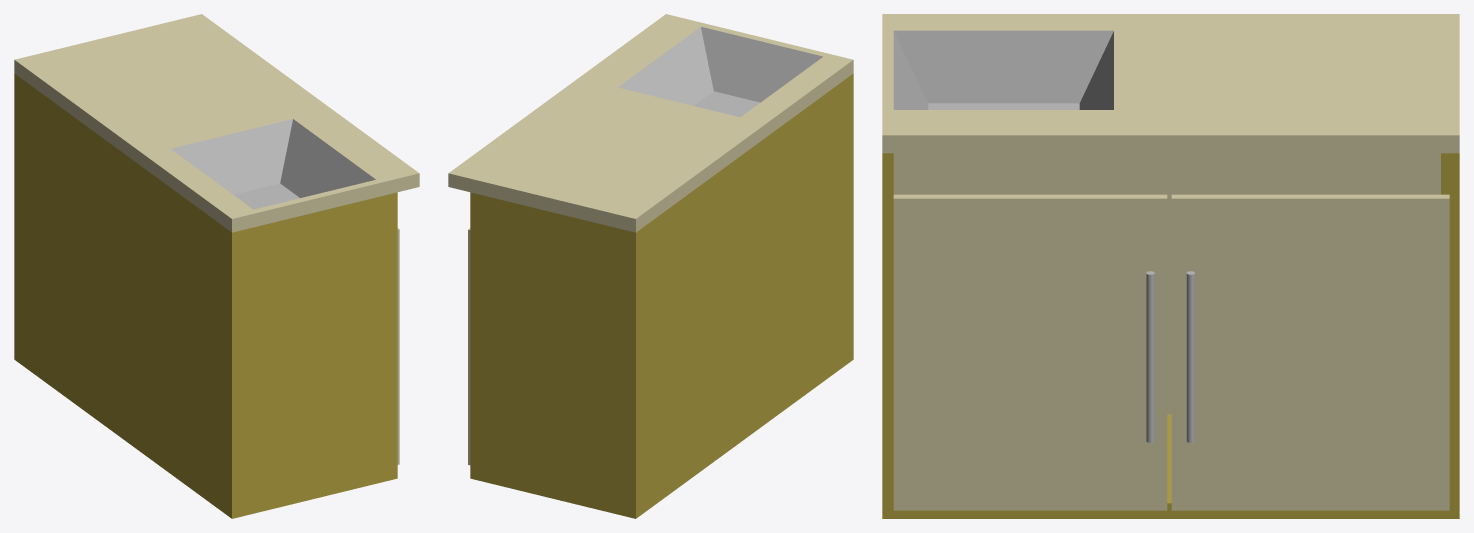
Rendered from Bathroom_Sink.fbx.
3 views of the same model, side by side, from view 1: azimuth 30°, elevation 25°; view 2: azimuth 150°, elevation 25°; view 3: azimuth 270°, elevation 25° (orthographic). The views are drawn at different scales.
Visible parts, largest first — view 1: Bottom_Counter, Sink_Cabinet_Door_L; view 2: Bottom_Counter, Sink_Cabinet_Door_R; view 3: Bottom_Counter, Sink_Cabinet_Door_R, Sink_Cabinet_Door_L.
Boxes of the visible parts, x1,y1,x2,y2 form: Bottom_Counter: (14,14,419,518); Sink_Cabinet_Door_L: (397,228,399,464); Bottom_Counter: (448,14,853,518); Sink_Cabinet_Door_R: (468,228,470,465); Bottom_Counter: (882,14,1459,518); Sink_Cabinet_Door_R: (1171,194,1449,510); Sink_Cabinet_Door_L: (893,194,1167,510).
Size of the model in its own units: 67.98 by 104 by 137.
